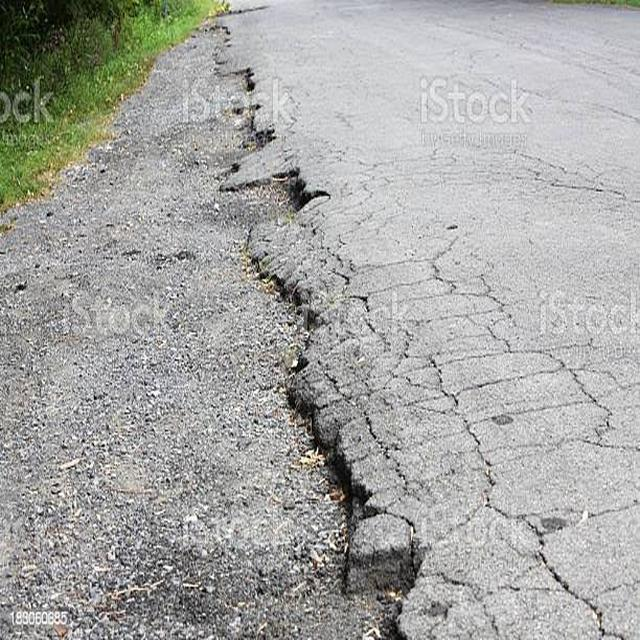Pinggir: (176, 6, 515, 640)
